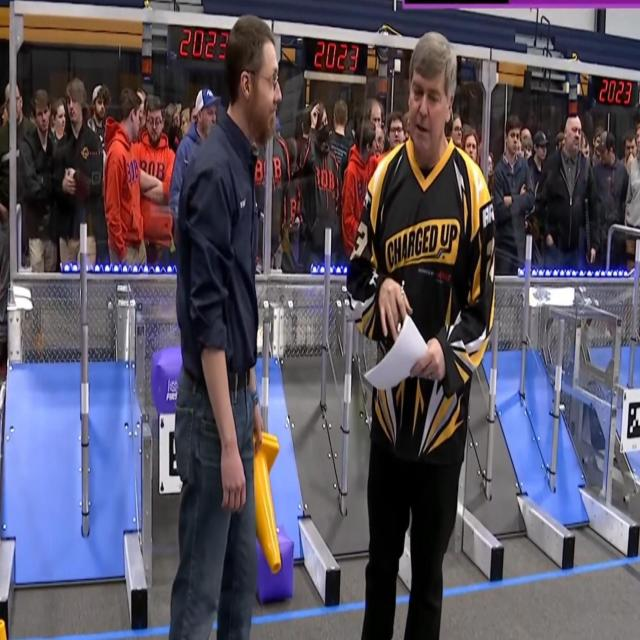frc_cone: (240, 432, 280, 572)
frc_cube: (258, 527, 292, 603), (148, 347, 184, 414)
